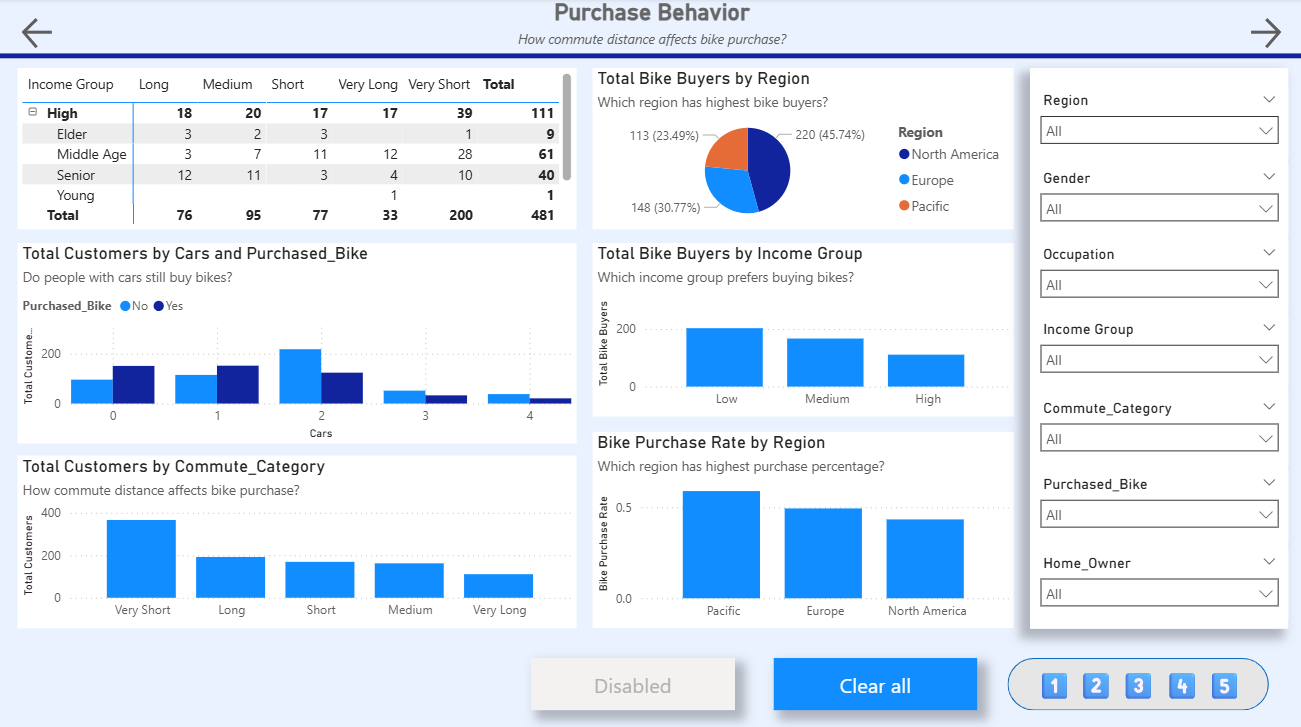

What the dashboard file says about the page in this screenshot:
{"tool":"powerbi","page":{"name":"Purchase Behavior","canvas":[1280,720],"ordinal":3},"visuals":[{"type":"textbox","title":"Purchase Behavior","box":[0,0,1280,68.8],"z":0},{"type":"clusteredColumnChart","title":"Total Bike Buyers by Income Group","fields":{"Category":["Dim_Cus.Income Group"],"Y":["Fact_Bike_Sales.Total Bike Buyers"]},"box":[581.8,240.7,413.9,170.6],"z":1000},{"type":"columnChart","fields":{"Category":["Dim_Cus.Commute_Category"],"Y":["Fact_Bike_Sales.Total Customers"]},"box":[17.2,449.6,548.8,169.3],"z":2000},{"type":"clusteredColumnChart","fields":{"Category":["Fact_Bike_Sales.Cars"],"Y":["Fact_Bike_Sales.Total Customers"],"Series":["Fact_Bike_Sales.Purchased_Bike"]},"box":[17.2,240.7,548.8,197],"z":3000},{"type":"pieChart","fields":{"Category":["Dim_Cus.Region"],"Y":["Fact_Bike_Sales.Total Bike Buyers"]},"box":[581.8,68.8,413.9,158.7],"z":4000},{"type":"columnChart","fields":{"Category":["Dim_Cus.Region"],"Y":["Fact_Bike_Sales.Bike Purchase Rate"]},"box":[581.8,425.8,413.9,193.1],"z":5000},{"type":"pivotTable","fields":{"Rows":["Dim_Cus.Income Group","Dim_Cus.Age_Group"],"Columns":["Dim_Cus.Commute_Category"],"Values":["Fact_Bike_Sales.Total Bike Buyers"]},"box":[17.2,68.8,548.8,158.7],"z":6000},{"type":"shape","box":[1011.6,68.8,253.9,550.1],"z":7000},{"type":"slicer","fields":{"Values":["Dim_Cus.Region"]},"box":[1011.6,87.3,253.9,68.8],"z":8000},{"type":"slicer","fields":{"Values":["Dim_Cus.Gender"]},"box":[1011.6,162.6,253.9,68.8],"z":9000},{"type":"slicer","fields":{"Values":["Dim_Cus.Occupation"]},"box":[1011.6,238,253.9,68.8],"z":10000},{"type":"slicer","fields":{"Values":["Dim_Cus.Income Group"]},"box":[1011.6,312.1,253.9,68.8],"z":11000},{"type":"slicer","fields":{"Values":["Dim_Cus.Commute_Category"]},"box":[1011.6,388.8,253.9,68.8],"z":12000},{"type":"slicer","fields":{"Values":["Fact_Bike_Sales.Purchased_Bike"]},"box":[1011.6,464.1,253.9,68.8],"z":13000},{"type":"slicer","fields":{"Values":["Dim_Cus.Home_Owner"]},"box":[1011.6,540.8,253.9,68.8],"z":14000},{"type":"shape","box":[989.1,647.9,256.5,51.6],"z":15000},{"type":"actionButton","box":[1055.2,654.5,41,39.7],"z":16000},{"type":"actionButton","box":[1097.5,654.5,41,39.7],"z":17000},{"type":"actionButton","box":[1139.8,654.5,41,39.7],"z":18000},{"type":"actionButton","box":[1182.1,654.5,41,39.7],"z":19000},{"type":"actionButton","box":[1014.2,654.5,41,39.7],"z":20000},{"type":"actionButton","box":[759,647.9,199.7,51.6],"z":21000},{"type":"actionButton","box":[521,647.9,199.7,51.6],"z":22000},{"type":"actionButton","box":[17.2,14.5,48.9,39.7],"z":23000},{"type":"actionButton","box":[1221.8,14.5,43.6,39.7],"z":24000}]}

Visuals, with their boxes in screenshot pixels (x1, y1, x2, y2), scaled from the page's 1280x720 canvas onto the 1301x727 screenshot:
"Purchase Behavior" textbox: box(0, 0, 1300, 69)
"Total Bike Buyers by Income Group" clusteredColumnChart: box(591, 243, 1012, 415)
columnChart - Dim_Cus.Commute_Category x Fact_Bike_Sales.Total Customers: box(17, 454, 575, 625)
clusteredColumnChart - Fact_Bike_Sales.Cars x Fact_Bike_Sales.Total Customers: box(17, 243, 575, 442)
pieChart - Dim_Cus.Region x Fact_Bike_Sales.Total Bike Buyers: box(591, 69, 1012, 230)
columnChart - Dim_Cus.Region x Fact_Bike_Sales.Bike Purchase Rate: box(591, 430, 1012, 625)
pivotTable - Dim_Cus.Income Group x Dim_Cus.Age_Group: box(17, 69, 575, 230)
shape: box(1028, 69, 1286, 625)
slicer - Dim_Cus.Region: box(1028, 88, 1286, 158)
slicer - Dim_Cus.Gender: box(1028, 164, 1286, 234)
slicer - Dim_Cus.Occupation: box(1028, 240, 1286, 310)
slicer - Dim_Cus.Income Group: box(1028, 315, 1286, 385)
slicer - Dim_Cus.Commute_Category: box(1028, 393, 1286, 462)
slicer - Fact_Bike_Sales.Purchased_Bike: box(1028, 469, 1286, 538)
slicer - Dim_Cus.Home_Owner: box(1028, 546, 1286, 616)
shape: box(1005, 654, 1266, 706)
actionButton: box(1073, 661, 1114, 701)
actionButton: box(1116, 661, 1157, 701)
actionButton: box(1158, 661, 1200, 701)
actionButton: box(1201, 661, 1243, 701)
actionButton: box(1031, 661, 1073, 701)
actionButton: box(771, 654, 974, 706)
actionButton: box(530, 654, 733, 706)
actionButton: box(17, 15, 67, 55)
actionButton: box(1242, 15, 1286, 55)
